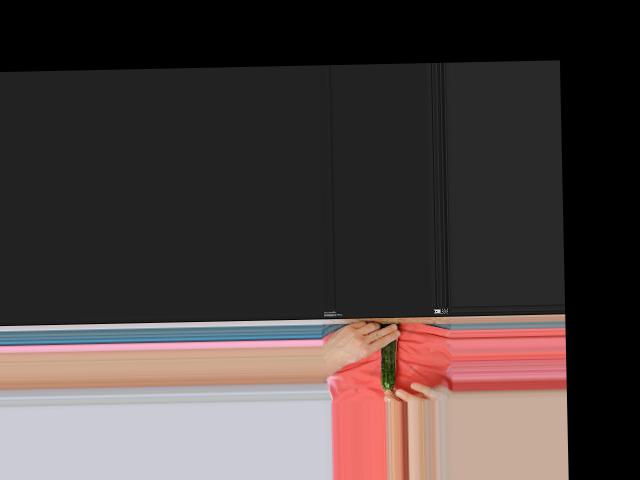cucumber: (379, 339, 397, 390)
